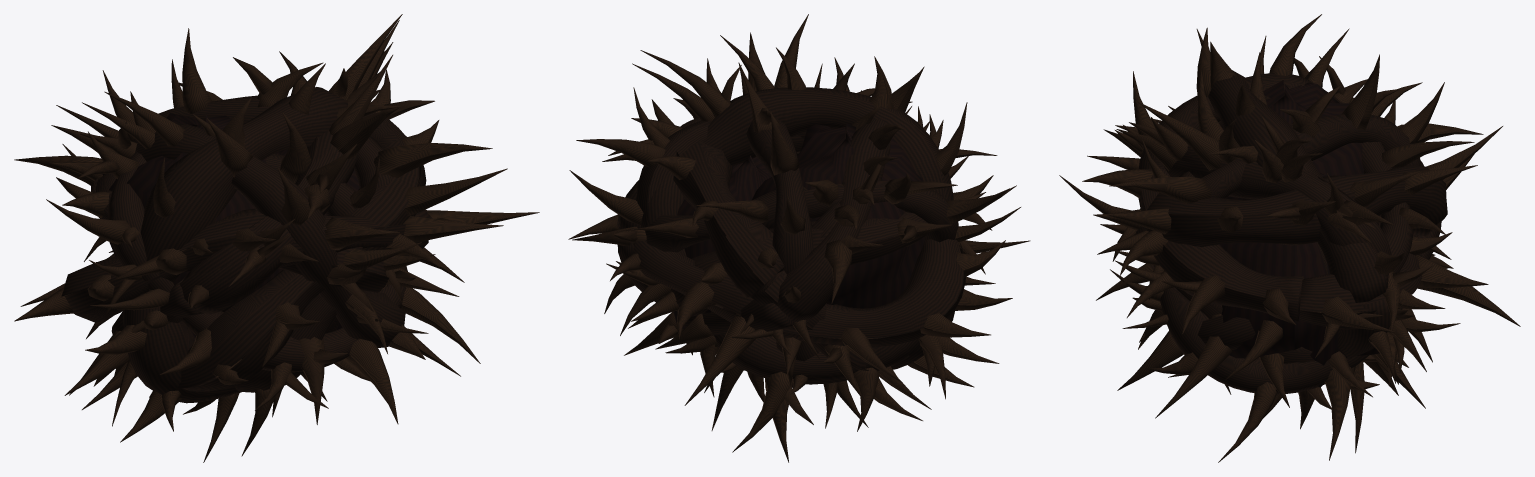
Rendered from Thorn_B_GnarledKnot_Detail0.fbx.
The picture shows the model from 3 angles, left to right: view 1: azimuth 30°, elevation 25°; view 2: azimuth 150°, elevation 25°; view 3: azimuth 270°, elevation 25°; orthographic projection. The views are drawn at different scales.
Visible parts, largest first — view 1: ThornSurface; view 2: ThornSurface; view 3: ThornSurface.
Part boxes in pixels (bbox=[...]): ThornSurface: bbox=[14, 14, 539, 462]; ThornSurface: bbox=[568, 14, 1030, 462]; ThornSurface: bbox=[1059, 14, 1520, 462].
Bounding box in the file's own units: 297 × 237 × 271.
